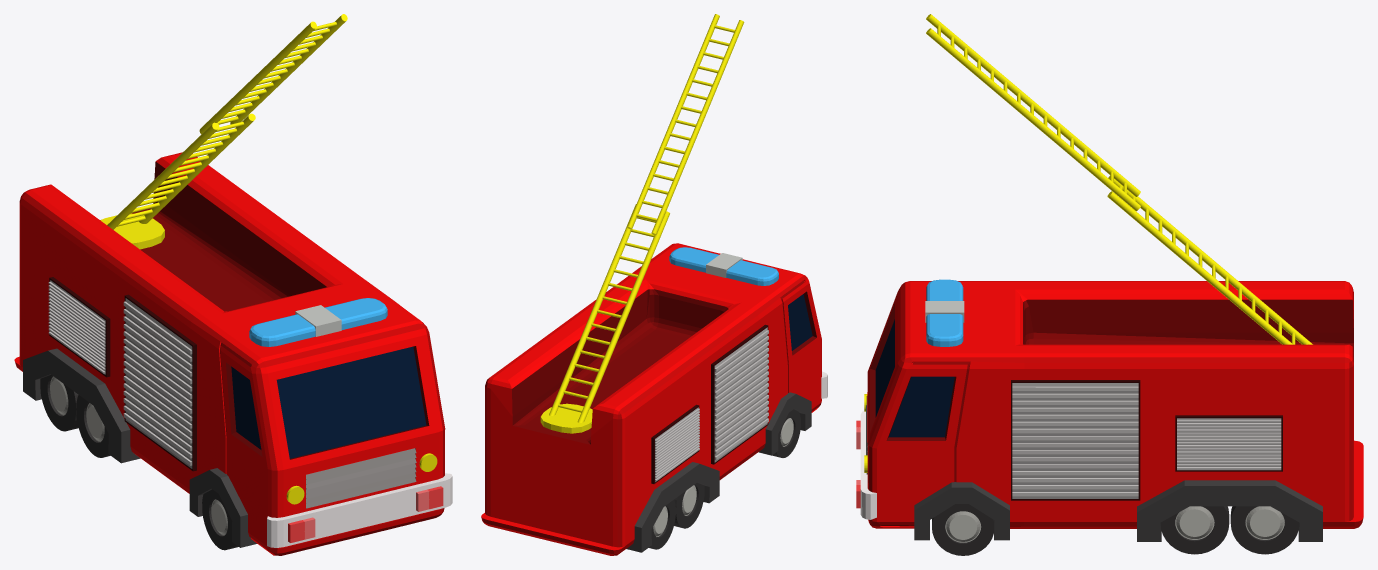
Rendered from itfayeeeee.fbx.
3 views of the same model, side by side, from view 1: azimuth 30°, elevation 25°; view 2: azimuth 150°, elevation 25°; view 3: azimuth 270°, elevation 25° (orthographic). The views are drawn at different scales.
Parts seen in each view (by area): view 1: Cylinder.027; view 2: Cylinder.027; view 3: Cylinder.027.
Part boxes in pixels (<box>): Cylinder.027: <box>14,14,452,555</box>; Cylinder.027: <box>481,14,827,555</box>; Cylinder.027: <box>856,14,1363,555</box>.
Size of the model in its own units: 1316 by 3090 by 3306.
